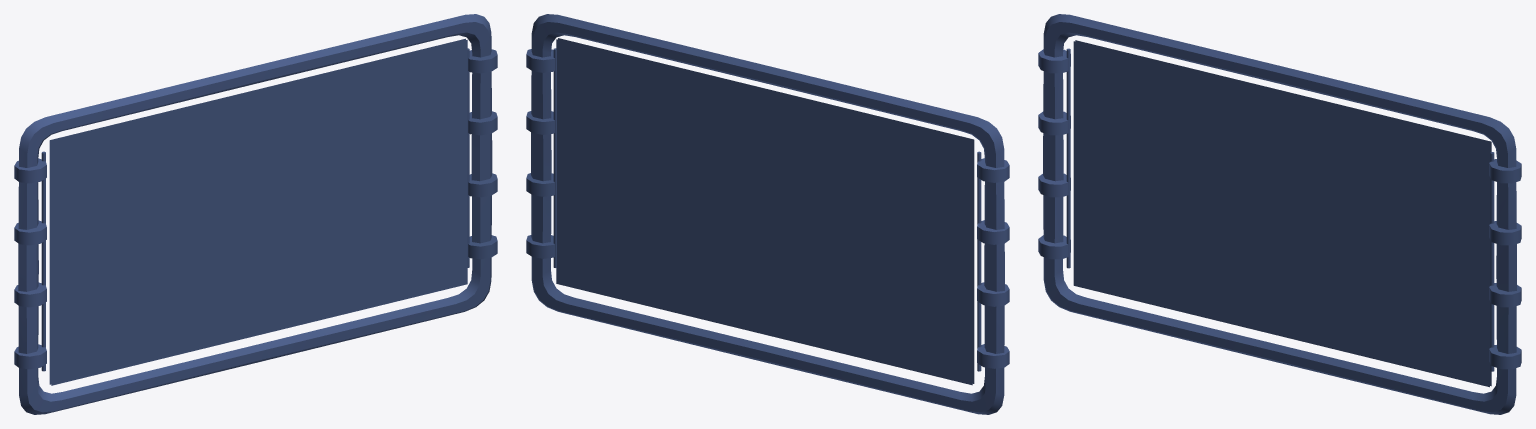
Rendered from MSH_BardaRejasl.fbx.
The picture shows the model from 3 angles, left to right: view 1: azimuth 30°, elevation 25°; view 2: azimuth 150°, elevation 25°; view 3: azimuth 330°, elevation 25°; orthographic projection.
Parts seen in each view (by area): view 1: MSH_Barda_CadenasA; view 2: MSH_Barda_CadenasA; view 3: MSH_Barda_CadenasA.
Boxes of the visible parts, <box> form: MSH_Barda_CadenasA: <box>14,14,497,414</box>; MSH_Barda_CadenasA: <box>526,14,1009,414</box>; MSH_Barda_CadenasA: <box>1038,14,1521,414</box>.
Bounding box in the file's own units: 188 × 112 × 9.95.
